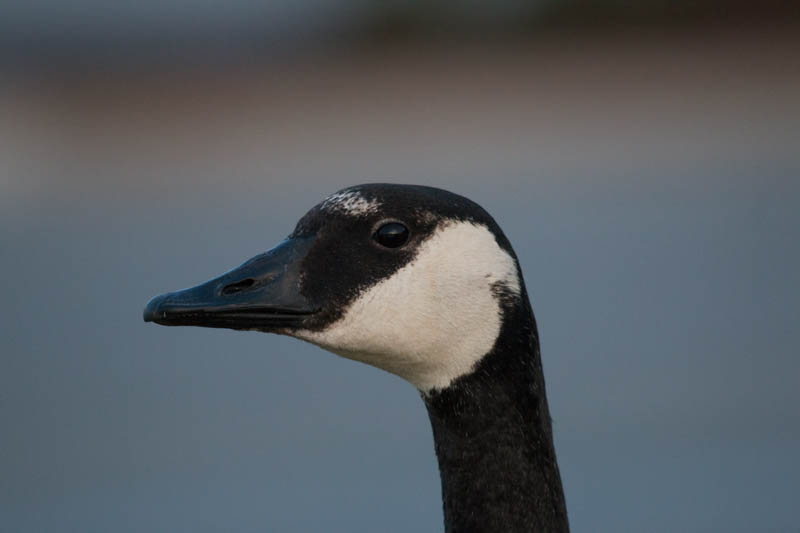goose-head: (142, 185, 545, 393)
